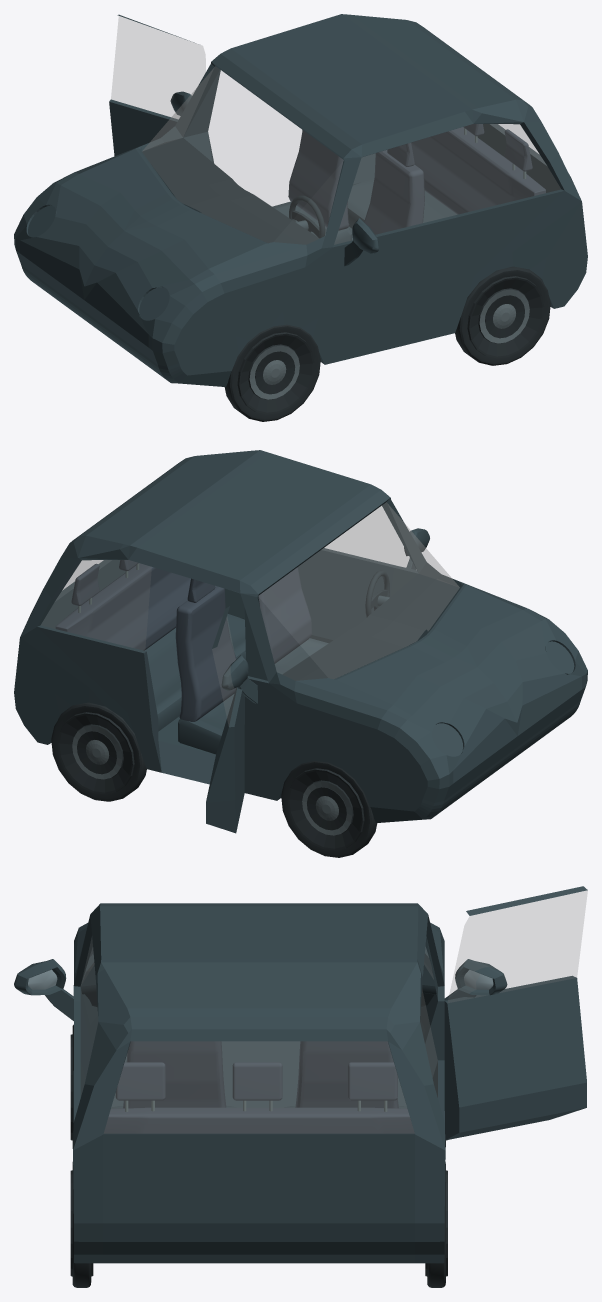
Rendered from FIXEDcarDoorOpeningAnimation.fbx.
The picture shows the model from 3 angles, top to bottom: view 1: azimuth 30°, elevation 25°; view 2: azimuth 150°, elevation 25°; view 3: azimuth 270°, elevation 25°; orthographic projection. The views are drawn at different scales.
Visible parts, largest first — view 1: car, car_seat_back (×3), car_door, wheel2, wheel1, car_seat_seat (×2), car_seat_head3, side_window; view 2: car, car_seat_back (×3), wheel3, wheel4, car_seat_seat (×3), car_door, car_seat_head1, side_window; view 3: car, car_door, car_seat_back (×3), side_window (×2), car_seat_head2, car_seat_head1, car_seat_head3, wheel2, wheel3.
Boxes of the visible parts, x1,y1,x2,y2 form: car: (14,14,587,386); car_seat_back (×3): (288,127,545,234); car_door: (109,14,214,163); wheel2: (455,266,550,365); wheel1: (224,324,320,421); car_seat_seat (×2): (272,178,456,244); car_seat_head3: (504,129,532,171); side_window: (352,218,378,253); car: (14,450,587,822); car_seat_back (×3): (55,563,312,721); wheel3: (51,702,146,801); wheel4: (281,761,377,857); car_seat_seat (×3): (145,614,328,754); car_door: (206,606,244,833); car_seat_head1: (71,563,99,605); side_window: (221,655,248,690); car: (73,903,445,1263); car_door: (444,886,587,1140); car_seat_back (×3): (103,1041,414,1133); side_window (×2): (14,959,507,995); car_seat_head2: (232,1062,282,1100); car_seat_head1: (347,1062,397,1100); car_seat_head3: (115,1062,165,1100); wheel2: (70,1162,93,1287); wheel3: (425,1162,447,1287).
Bounding box in the file's own units: 0.507 × 0.2862 × 0.4857.
